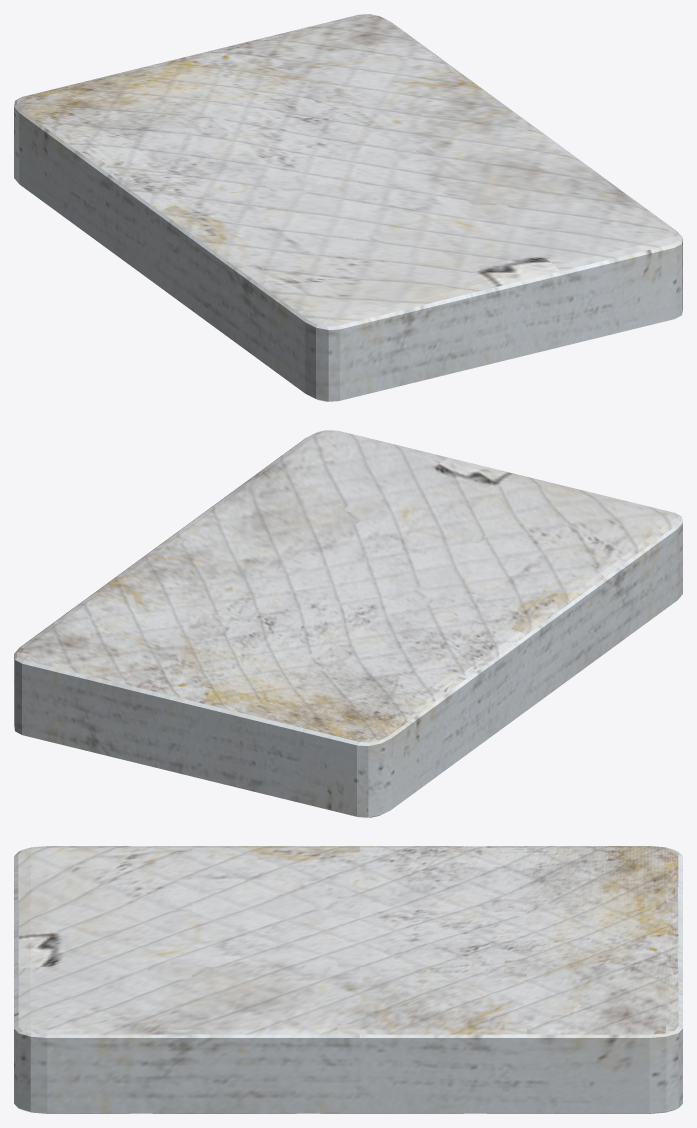
Rendered from Low_polly_dirty_matress.fbx.
The picture shows the model from 3 angles, top to bottom: view 1: azimuth 30°, elevation 25°; view 2: azimuth 150°, elevation 25°; view 3: azimuth 270°, elevation 25°; orthographic projection. The views are drawn at different scales.
Visible parts, largest first — view 1: A Matrass; view 2: A Matrass; view 3: A Matrass.
Boxes of the visible parts, x1,y1,x2,y2 form: A Matrass: (14, 14, 682, 401); A Matrass: (14, 430, 682, 817); A Matrass: (14, 846, 682, 1113).
Size of the model in its own units: 772 by 157 by 1142.
